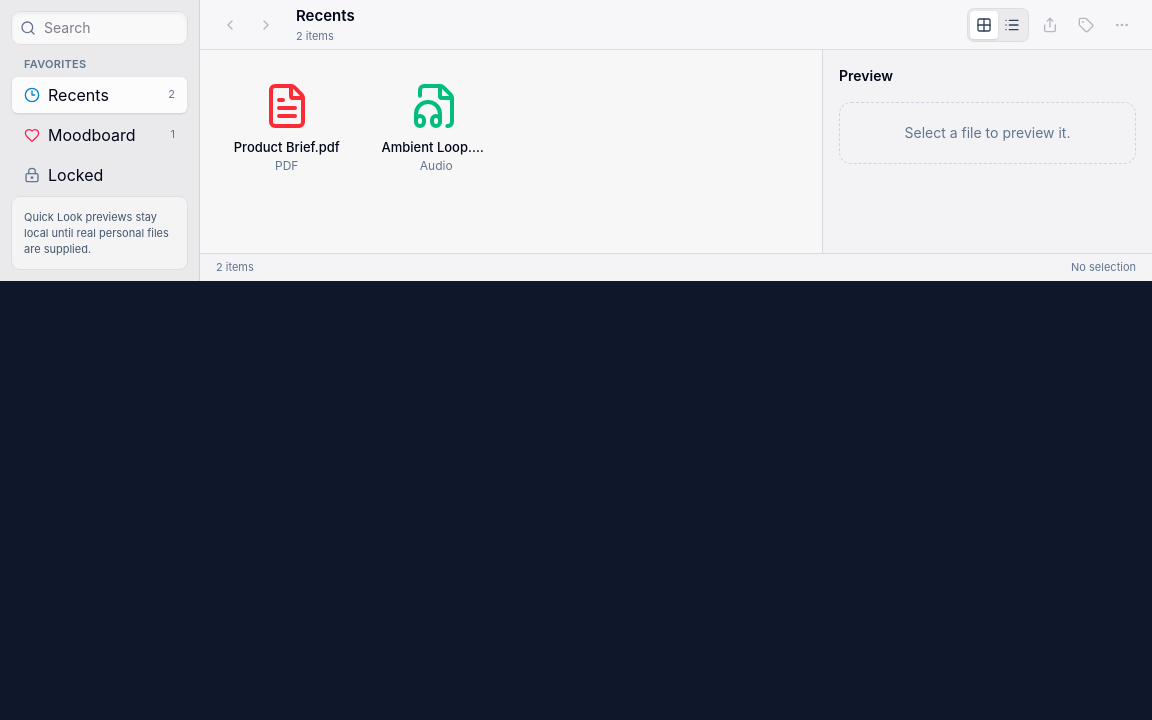
Test case: FinderApp › renders an actual image preview for image files
Click the button "Moodboard 1" at (100, 134), box x1=12 y1=116 x2=187 y2=152
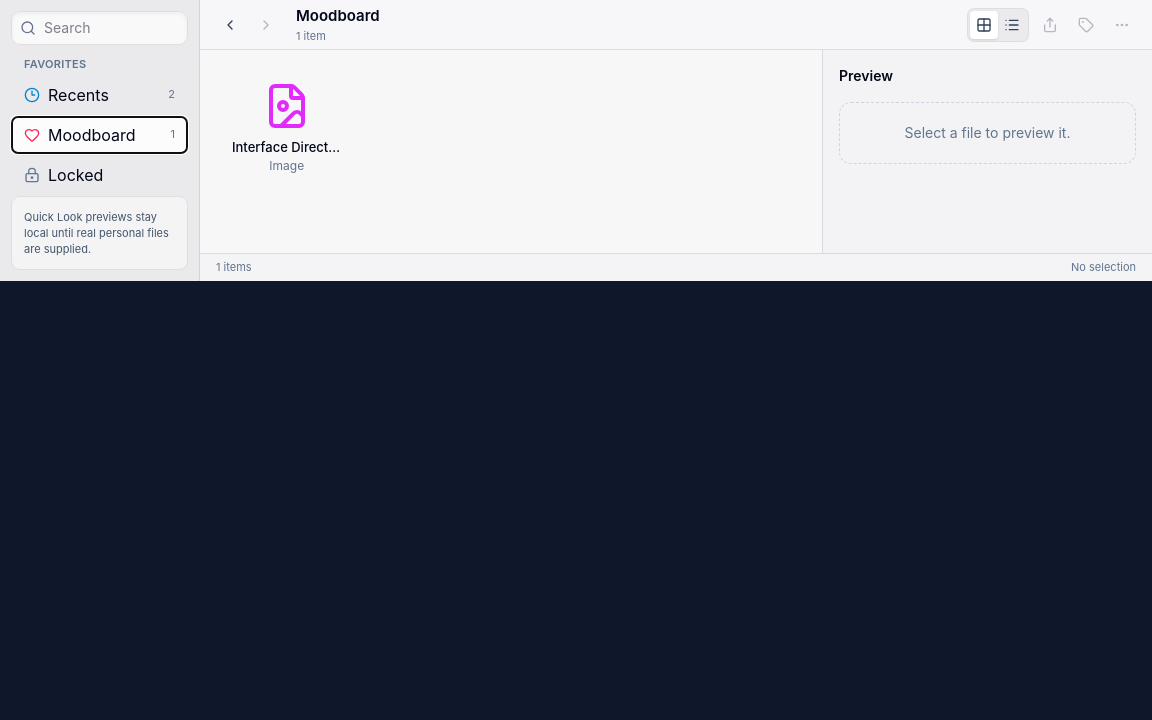
Click the button "Interface Direction.svg Image" at (287, 128), box x1=220 y1=70 x2=354 y2=186
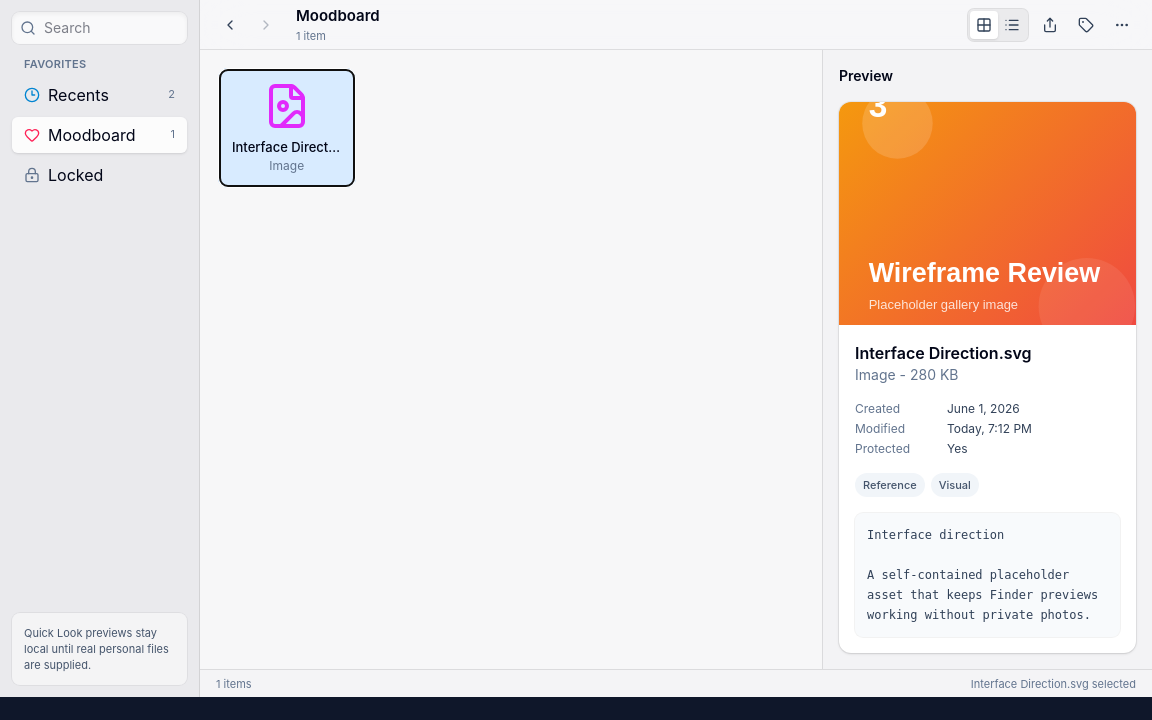
Now the picture named "Preview of Interface Direction.svg" is shown, box x1=839 y1=102 x2=1136 y2=325
Now the text "self-contained placeholder asset" is shown, box x1=867 y1=528 x2=1105 y2=622
